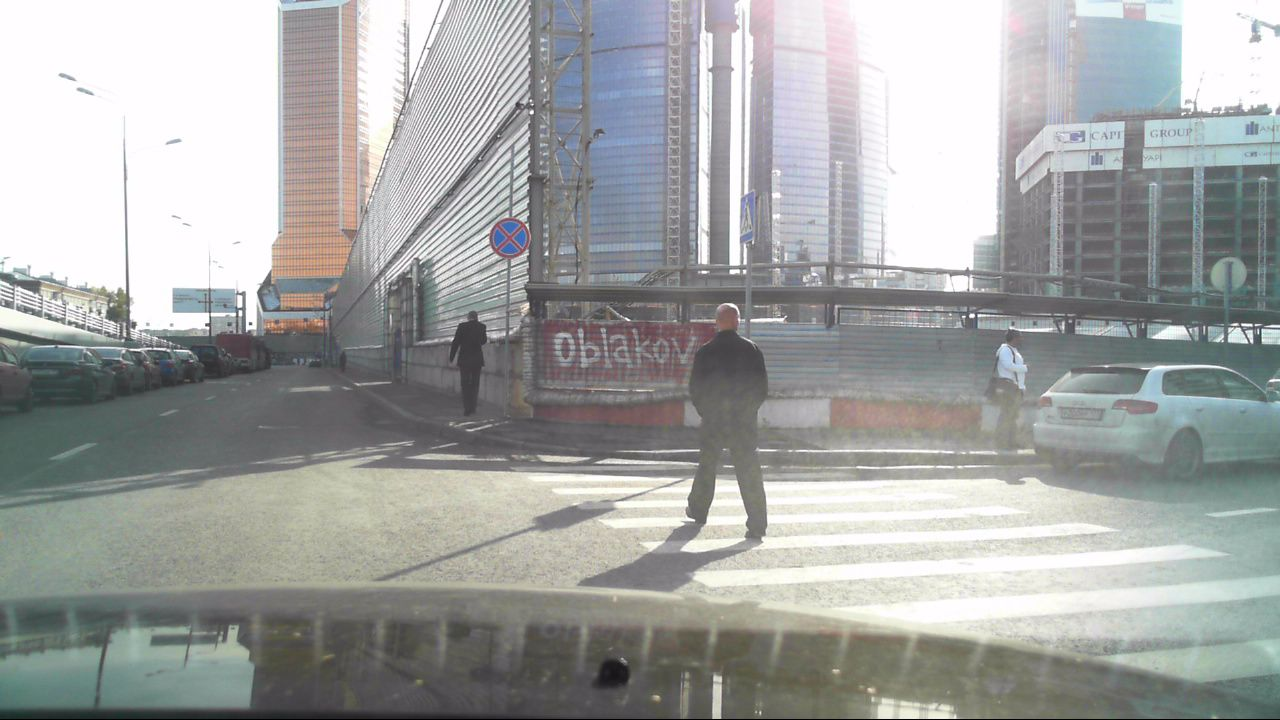No Parking: (489, 218, 532, 260)
